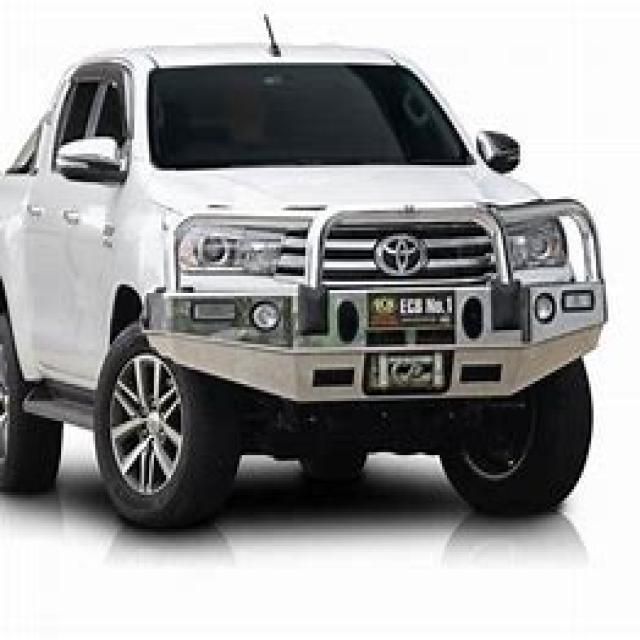light_vehicle: (12, 23, 608, 546)
